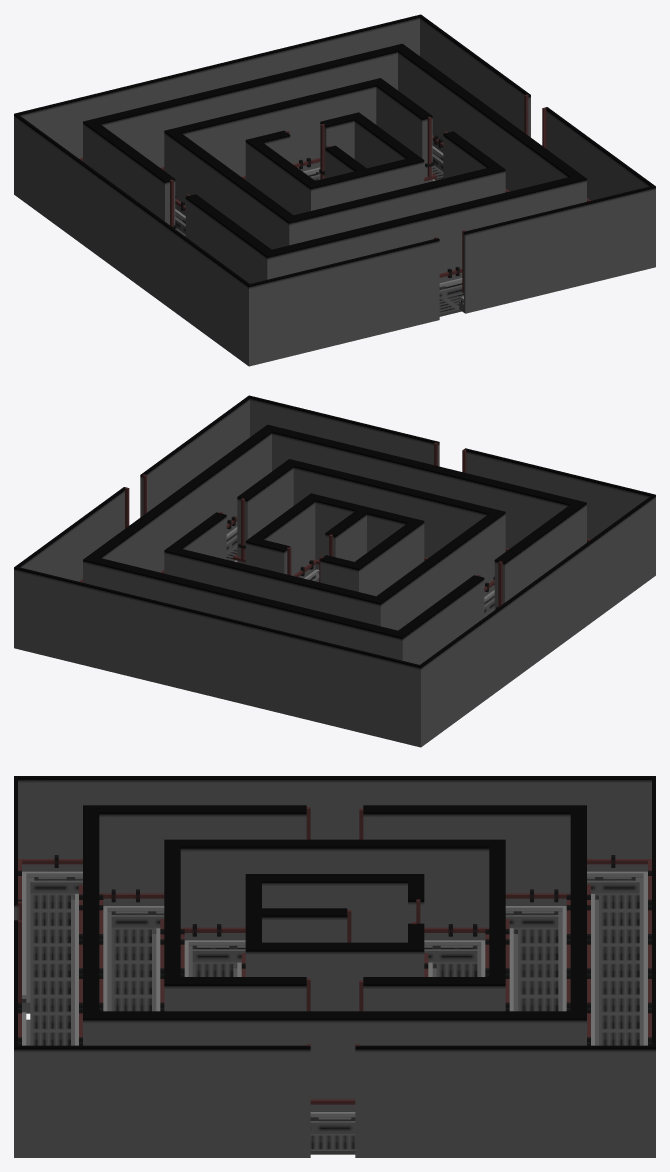
File: Level03pt1.fbx
3 renders of one model, top to bottom at view 1: azimuth 30°, elevation 25°; view 2: azimuth 150°, elevation 25°; view 3: azimuth 270°, elevation 25°, orthographic. The views are drawn at different scales.
Parts seen in each view (by area): view 1: Union_187; view 2: Union_187; view 3: Union_187.
Part boxes in pixels (x1,y1,x2,y2): Union_187: [14, 14, 655, 366]; Union_187: [14, 395, 655, 747]; Union_187: [14, 776, 655, 1157].
Size of the model in its own units: 158 by 31 by 158.
